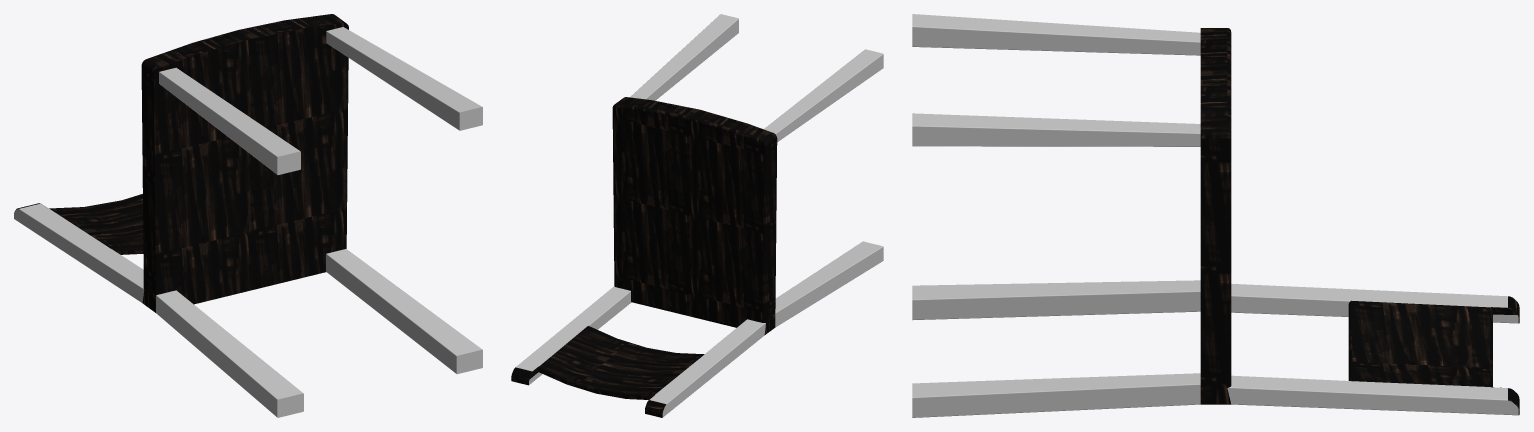
The model's file is Chair.obj.
The picture shows the model from 3 angles, left to right: view 1: azimuth 30°, elevation 25°; view 2: azimuth 150°, elevation 25°; view 3: azimuth 270°, elevation 25°; orthographic projection. The views are drawn at different scales.
Parts seen in each view (by area): view 1: Redondeo9; view 2: Redondeo9; view 3: Redondeo9.
Boxes of the visible parts, box(x1,y1,x2,y2) form: Redondeo9: box(14, 14, 482, 417); Redondeo9: box(511, 14, 883, 417); Redondeo9: box(912, 14, 1519, 417).
Size of the model in its own units: 13.78 by 16.89 by 31.5.
